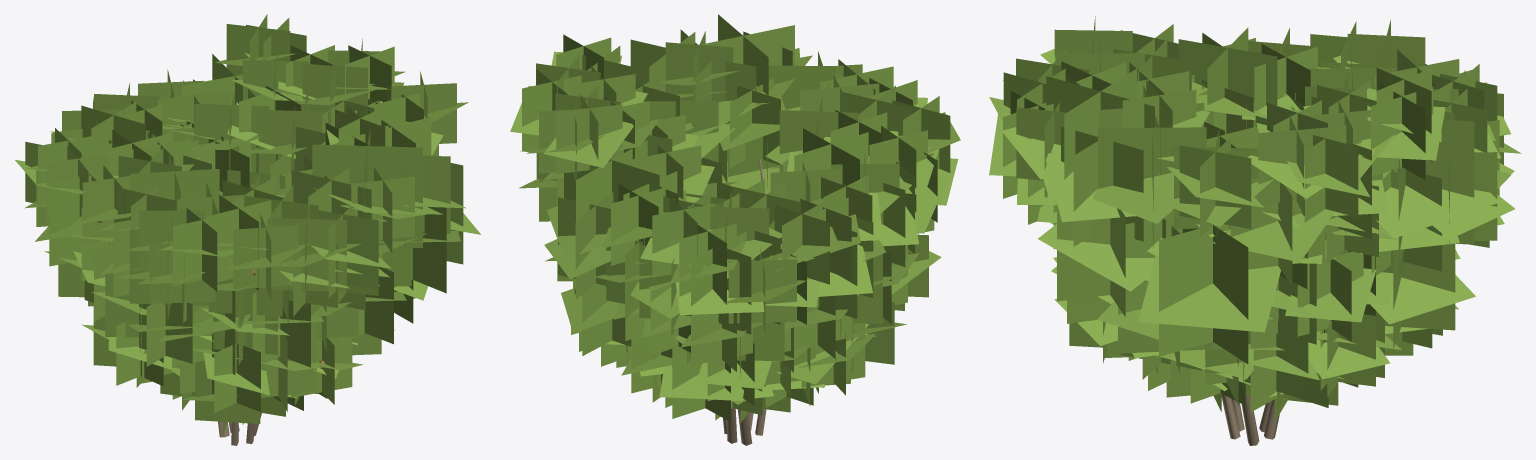
The model's file is noisetier_1_jeu.glb.
3 views of the same model, side by side, from view 1: azimuth 30°, elevation 25°; view 2: azimuth 150°, elevation 25°; view 3: azimuth 270°, elevation 25° (orthographic). The views are drawn at different scales.
Visible parts, largest first — view 1: Noisetier_T1_Leger; view 2: Noisetier_T1_Leger; view 3: Noisetier_T1_Leger.
Part boxes in pixels (<box>): Noisetier_T1_Leger: <box>15,14,480,445</box>; Noisetier_T1_Leger: <box>510,14,960,445</box>; Noisetier_T1_Leger: <box>989,16,1521,445</box>.
Bounding box in the file's own units: 3.45 × 3.01 × 3.58.
